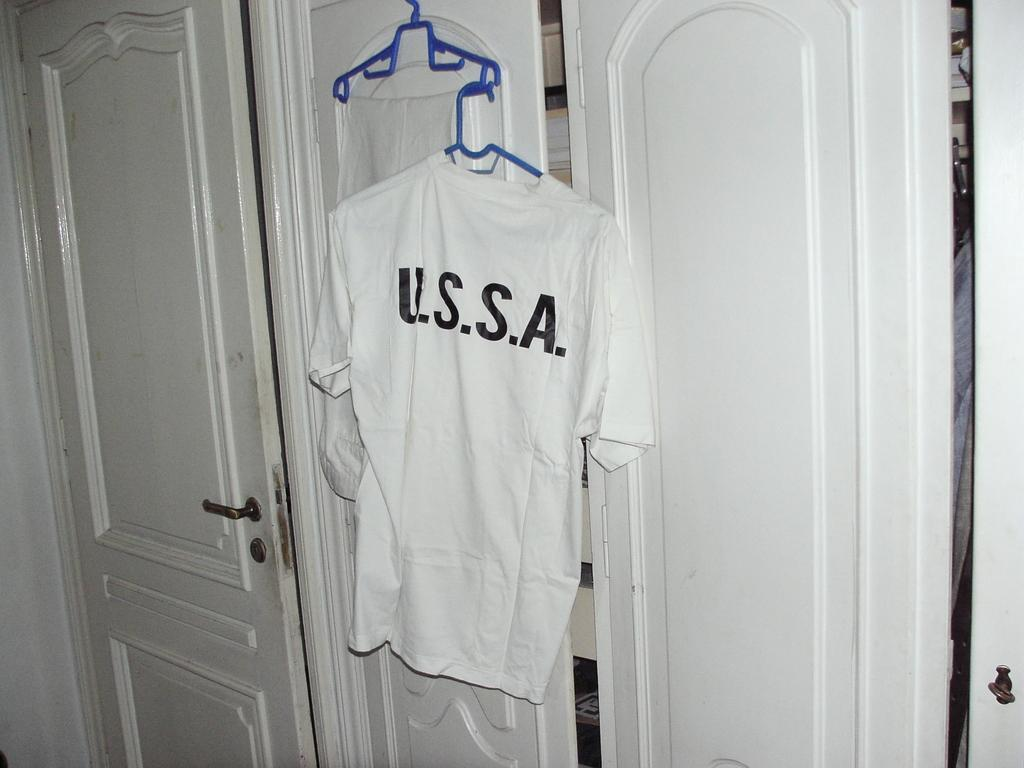door: (584, 18, 867, 768), (24, 16, 281, 755)
handle: (190, 488, 264, 524)
